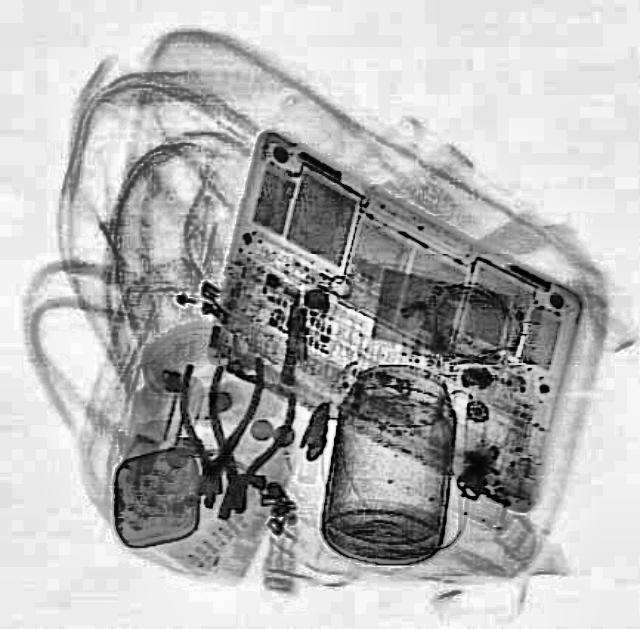Pliers: (164, 350, 264, 510), (194, 366, 298, 516)
